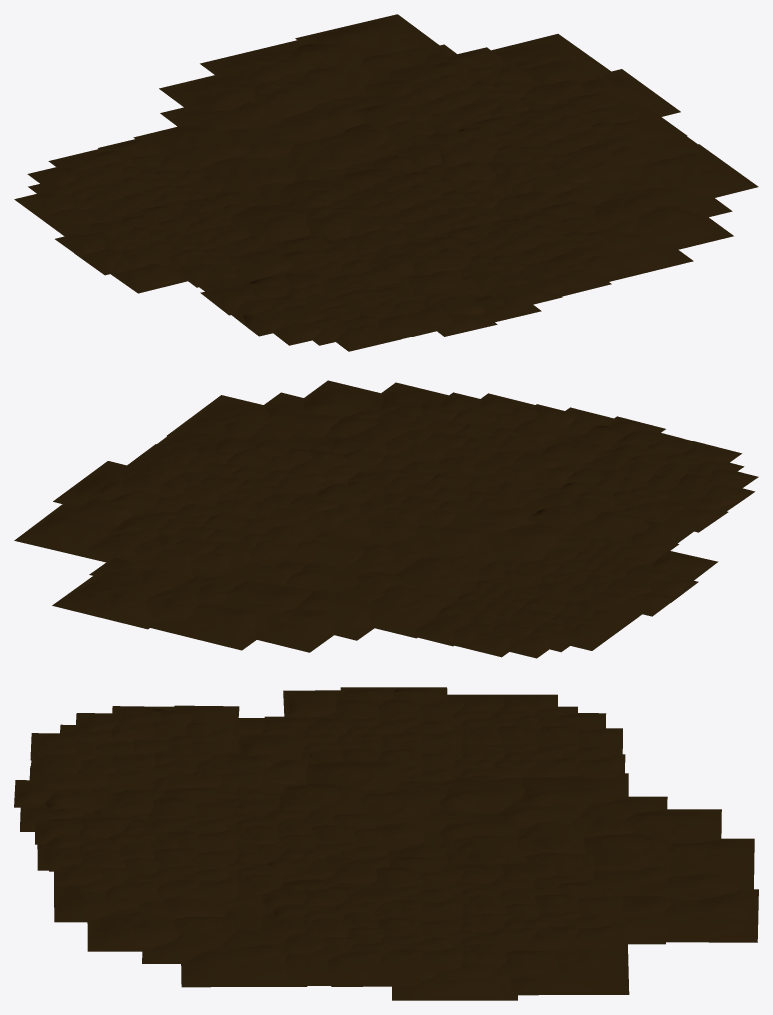
Rendered from Dirt.fbx.
3 views of the same model, one above another, from view 1: azimuth 30°, elevation 25°; view 2: azimuth 150°, elevation 25°; view 3: azimuth 270°, elevation 25° (orthographic). The views are drawn at different scales.
Parts seen in each view (by area): view 1: Landscape.005; view 2: Landscape.005; view 3: Landscape.005.
Boxes of the visible parts, x1,y1,x2,y2 form: Landscape.005: (14, 14, 758, 351); Landscape.005: (14, 380, 758, 658); Landscape.005: (14, 687, 758, 1000).
Bounding box in the file's own units: 75944 × 1416 × 76454.
